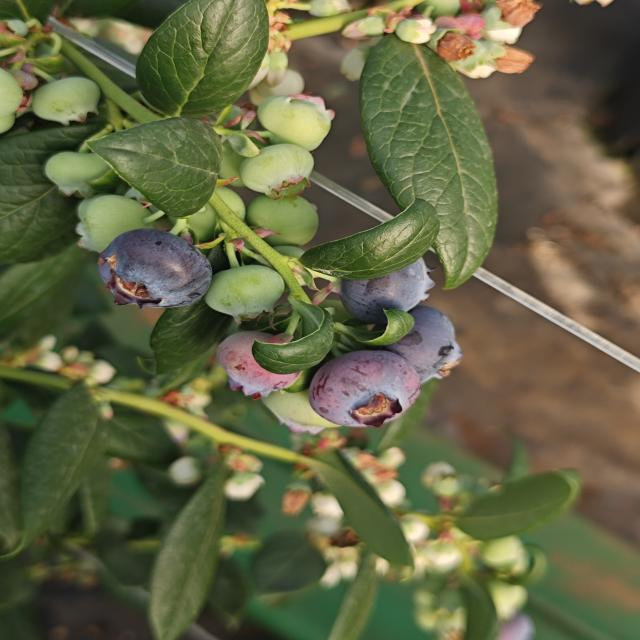ripe: (97, 229, 223, 319), (308, 346, 417, 438), (330, 243, 430, 315), (386, 313, 467, 381)
